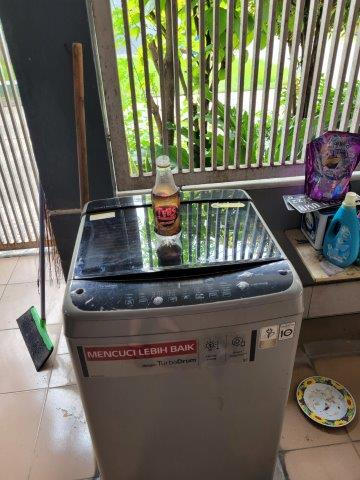botolplastik: (151, 157, 182, 242)
